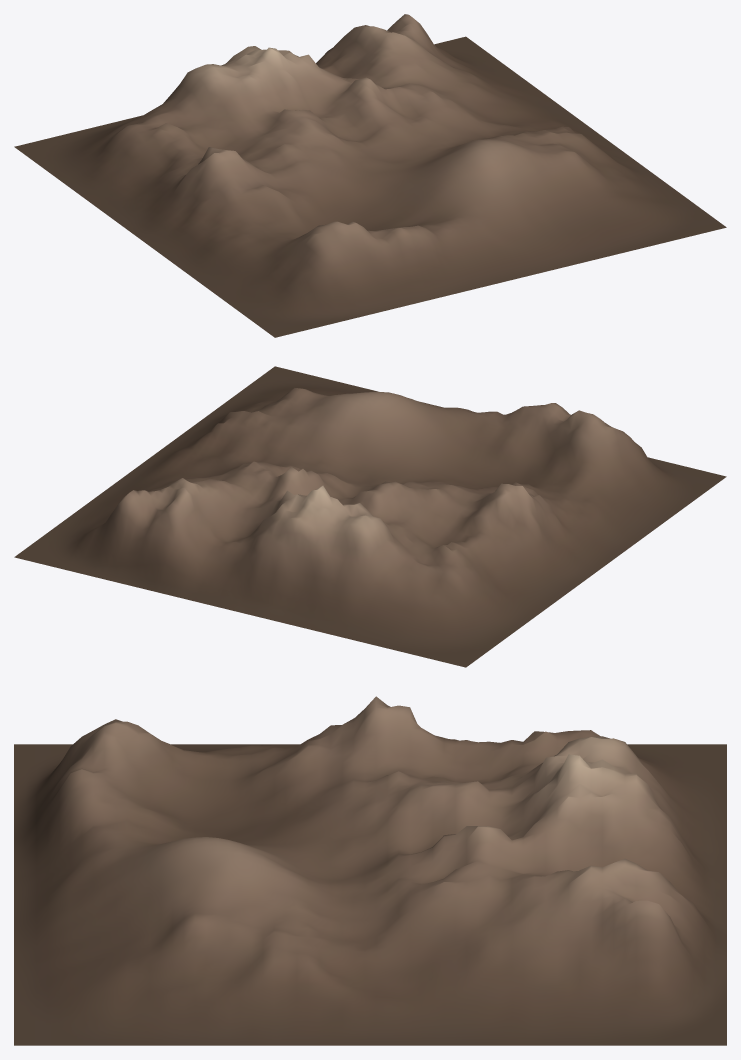
File: Mountain_3A.fbx
3 views of the same model, one above another, from view 1: azimuth 30°, elevation 25°; view 2: azimuth 150°, elevation 25°; view 3: azimuth 270°, elevation 25° (orthographic). The views are drawn at different scales.
Parts seen in each view (by area): view 1: Mountain_3A; view 2: Mountain_3A; view 3: Mountain_3A.
Part boxes in pixels (box(x1,y1,x2,y2)): Mountain_3A: box(14, 14, 726, 337); Mountain_3A: box(14, 366, 726, 667); Mountain_3A: box(14, 696, 726, 1045).
Bounding box in the file's own units: 20000 × 3839 × 20000.
